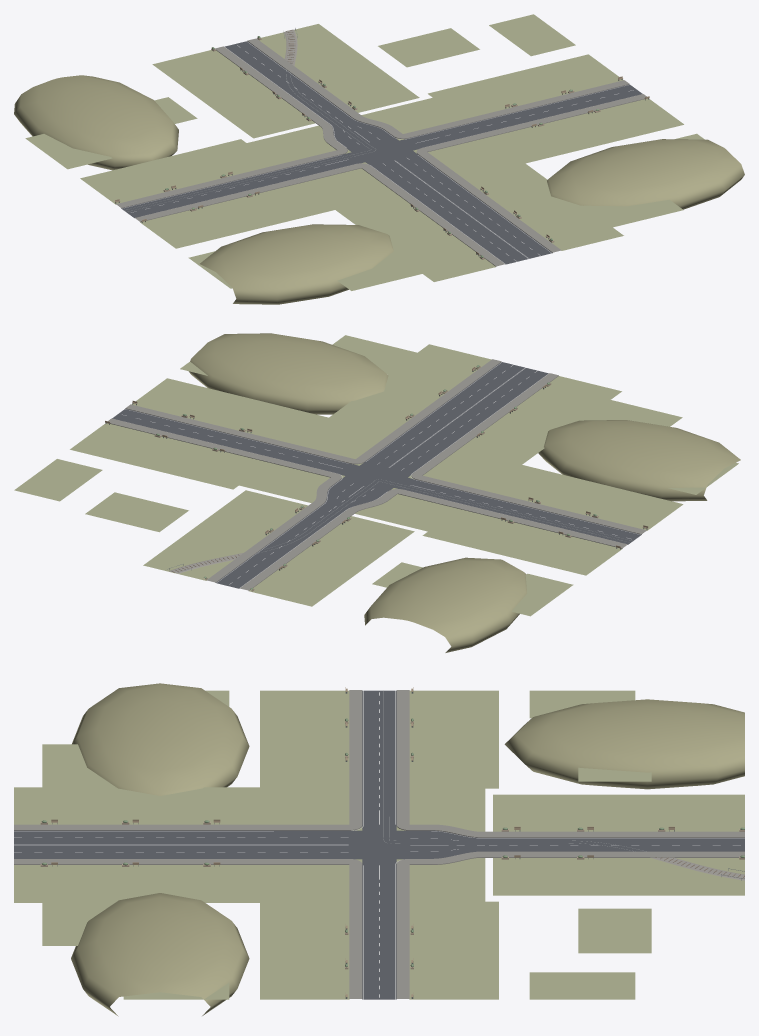
3 views of the same model, one above another, from view 1: azimuth 30°, elevation 25°; view 2: azimuth 150°, elevation 25°; view 3: azimuth 270°, elevation 25° (orthographic). The views are drawn at different scales.
Parts seen in each view (by area): view 1: static; view 2: static; view 3: static.
Boxes of the visible parts, x1,y1,x2,y2 form: static: (14,14,744,304); static: (14,333,740,652); static: (14,683,744,1016).
Size of what is drawn, in the model's own units: 180 by 14.08 by 180.
